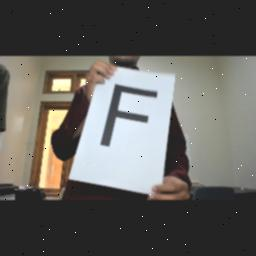f: (98, 76, 160, 156)
